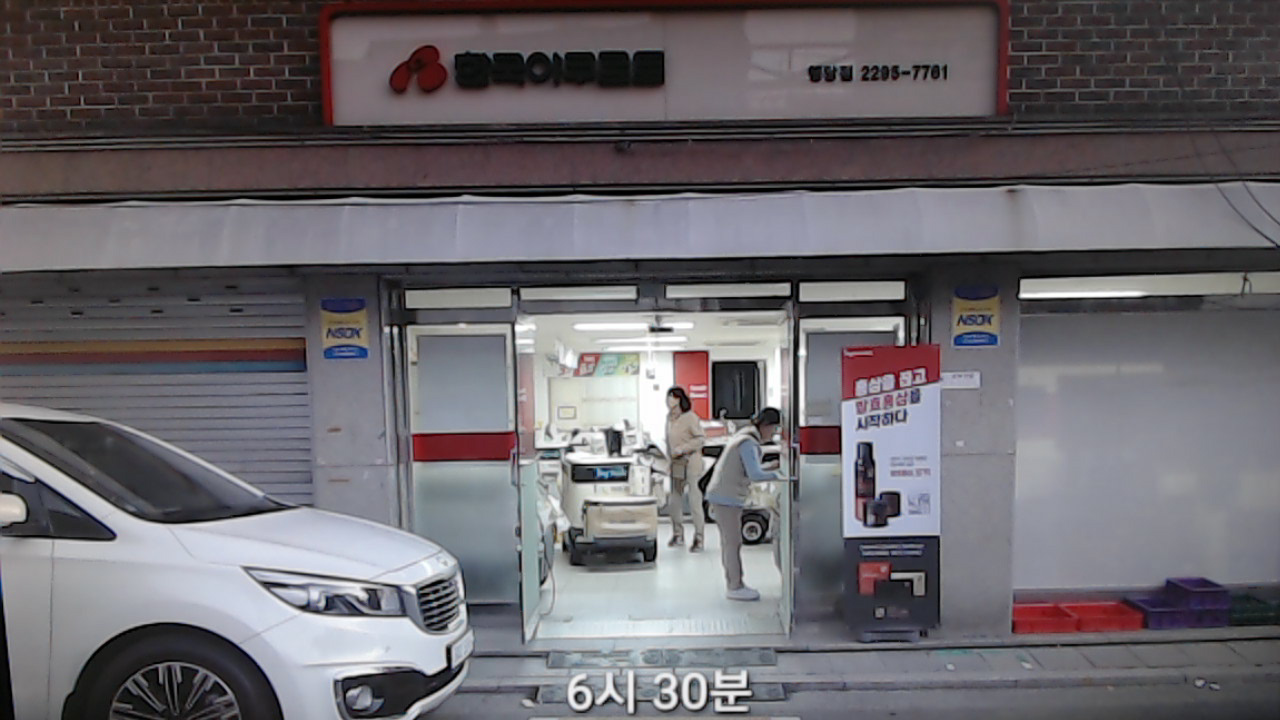Yakurut: (721, 406, 793, 613), (652, 384, 718, 563)
